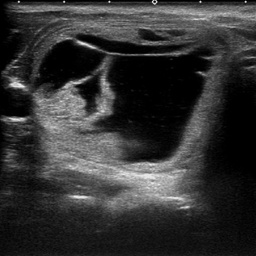mass: (29, 26, 221, 165)
